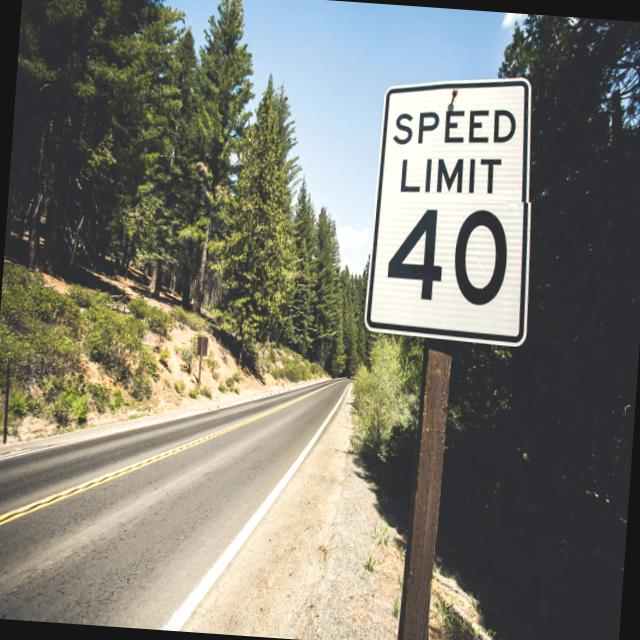Speed Limit Signs: (360, 64, 546, 352)
